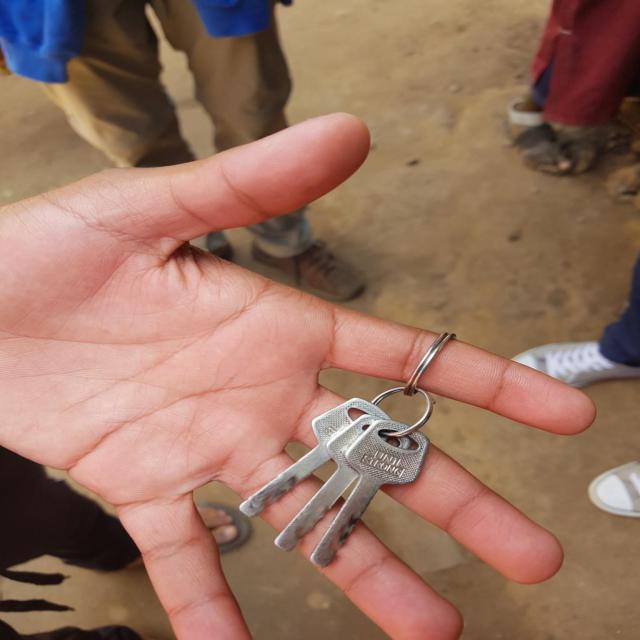Frontdoor keys: (324, 417, 448, 586), (243, 396, 387, 537)
